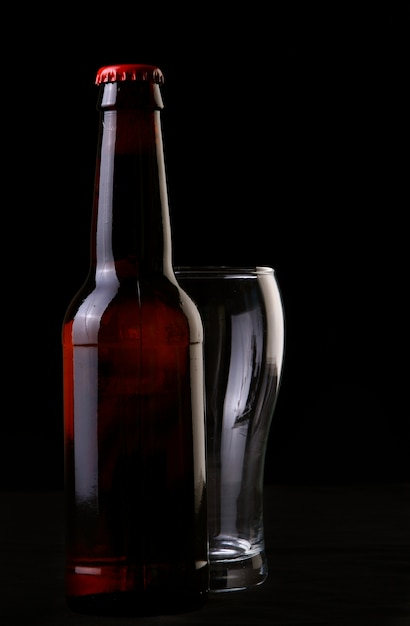alcohol: (53, 67, 225, 603)
